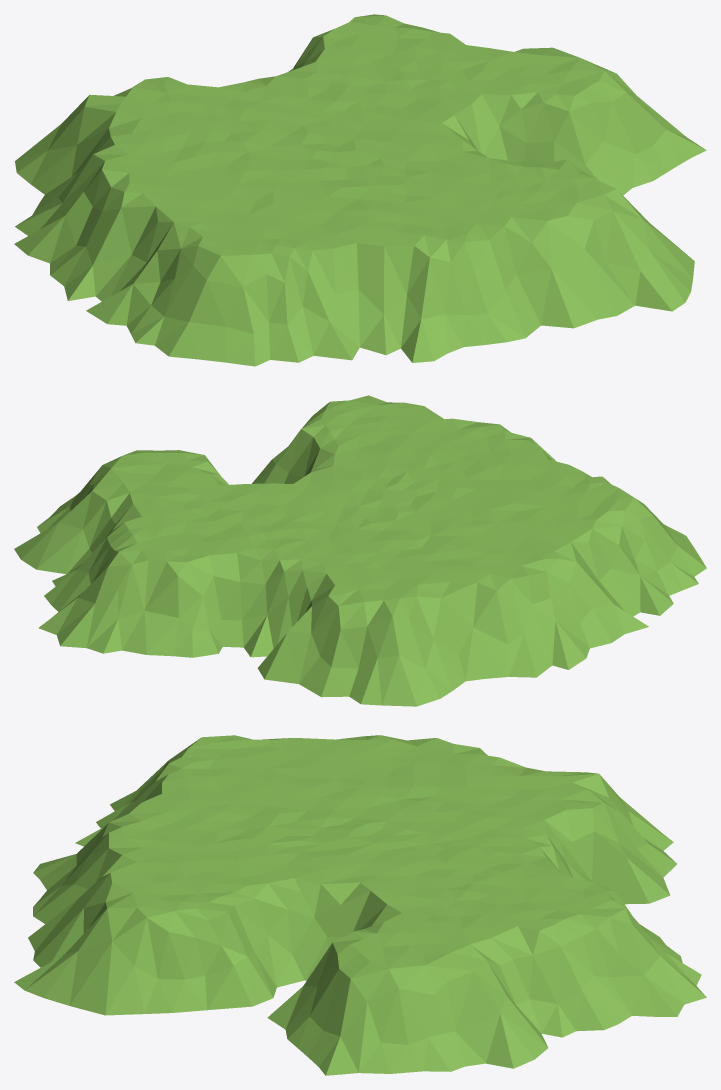
The model's file is MT_Island_L_a_13.fbx.
The picture shows the model from 3 angles, top to bottom: view 1: azimuth 30°, elevation 25°; view 2: azimuth 150°, elevation 25°; view 3: azimuth 270°, elevation 25°; orthographic projection. The views are drawn at different scales.
Parts seen in each view (by area): view 1: MT_Island_L_a_13; view 2: MT_Island_L_a_13; view 3: MT_Island_L_a_13.
Part boxes in pixels (x1=…): MT_Island_L_a_13: x1=14, y1=14, x2=706, y2=366; MT_Island_L_a_13: x1=14, y1=395, x2=706, y2=706; MT_Island_L_a_13: x1=14, y1=735, x2=706, y2=1075.
Size of the model in its own units: 8541 by 966 by 8171.
